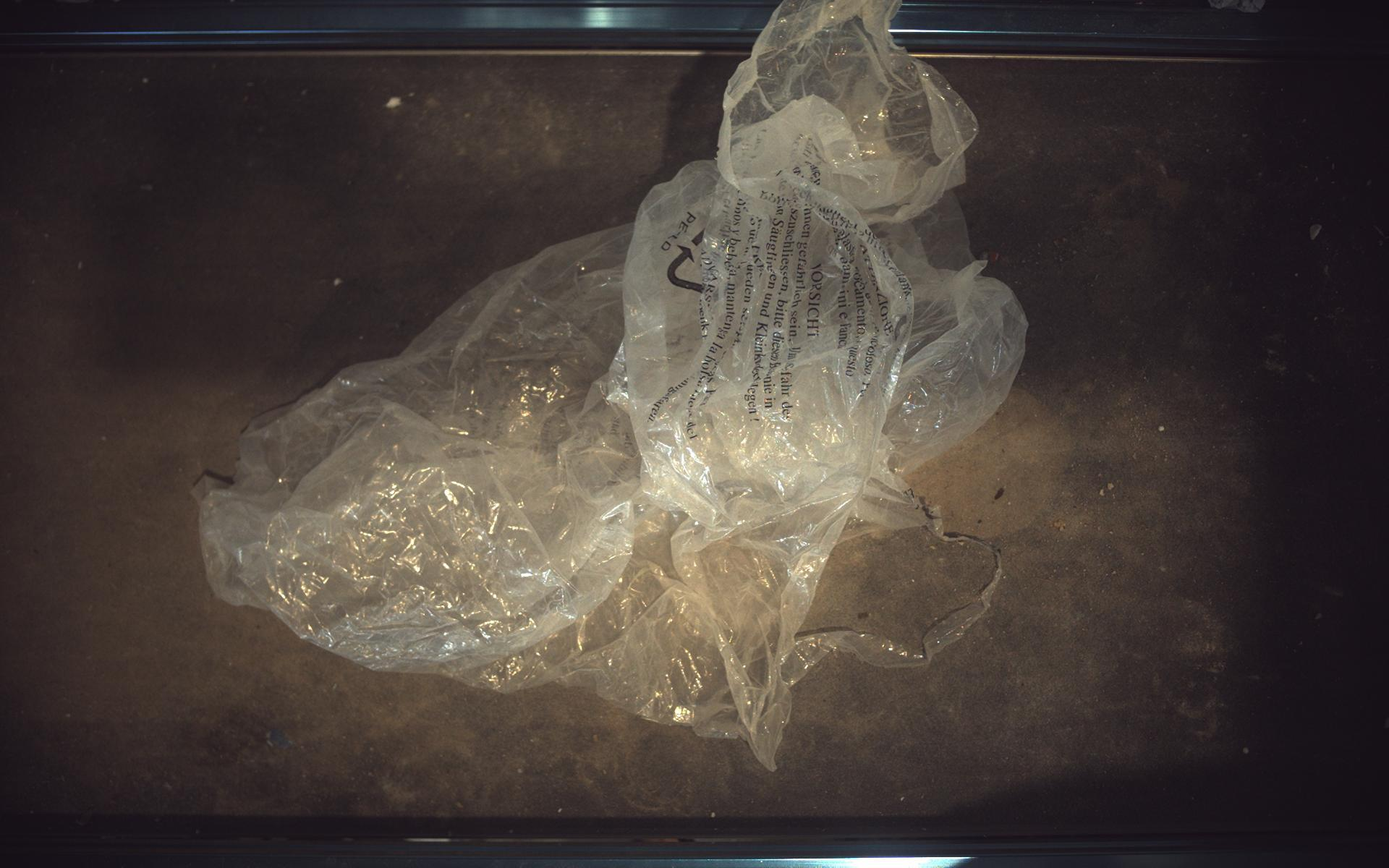general_w: (197, 1, 1029, 770)
